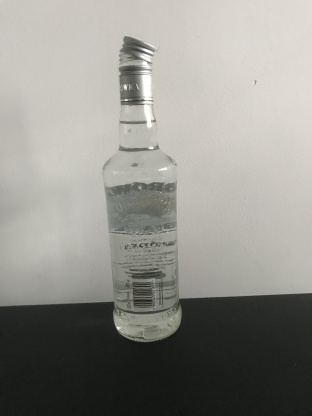nakretka: (116, 33, 157, 105)
